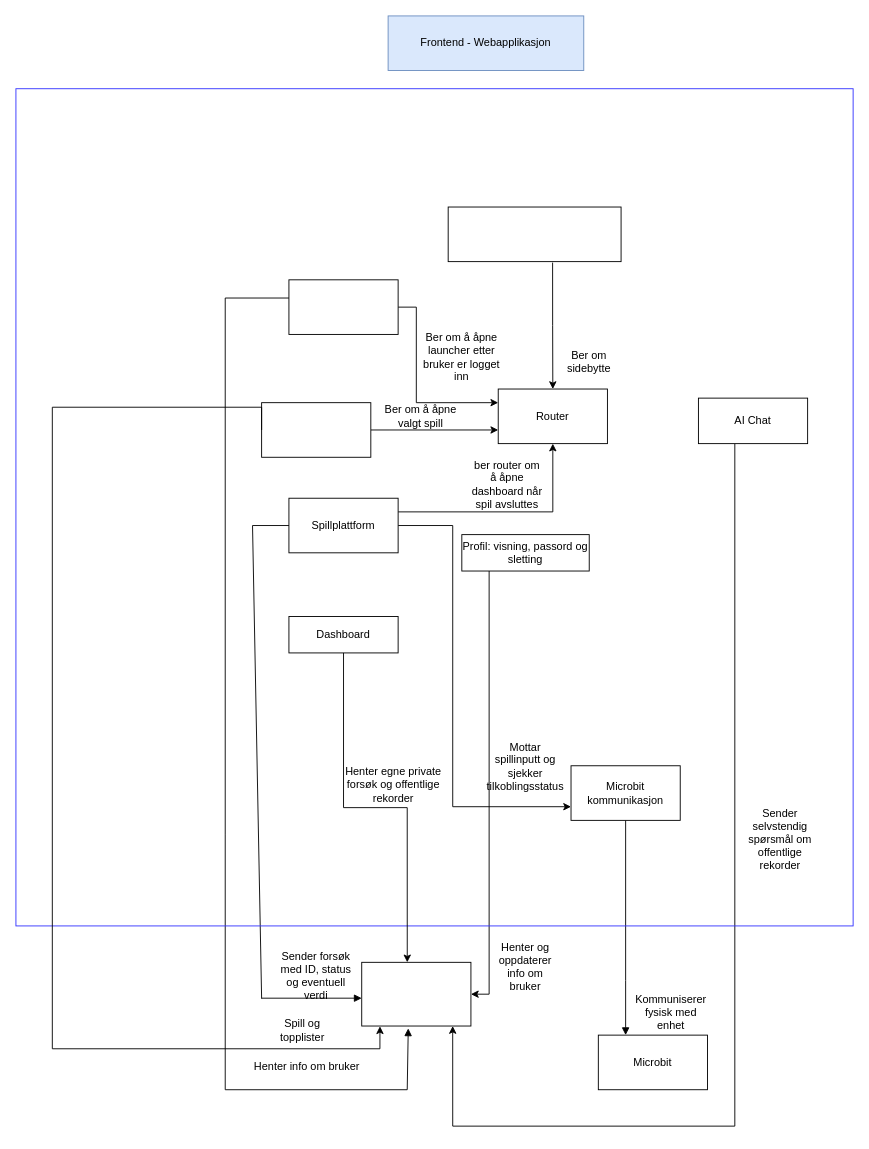
This 869x1149 diagram has some shape labels left out. The centre of each missing label's shape, as x and y in pixels:
Backend API: the point at 416,993
Innlogging og registrering: the point at 343,306
Launcher Spill og offentlige topplister: the point at 316,429
Navigasjonsmeny: the point at 534,234
